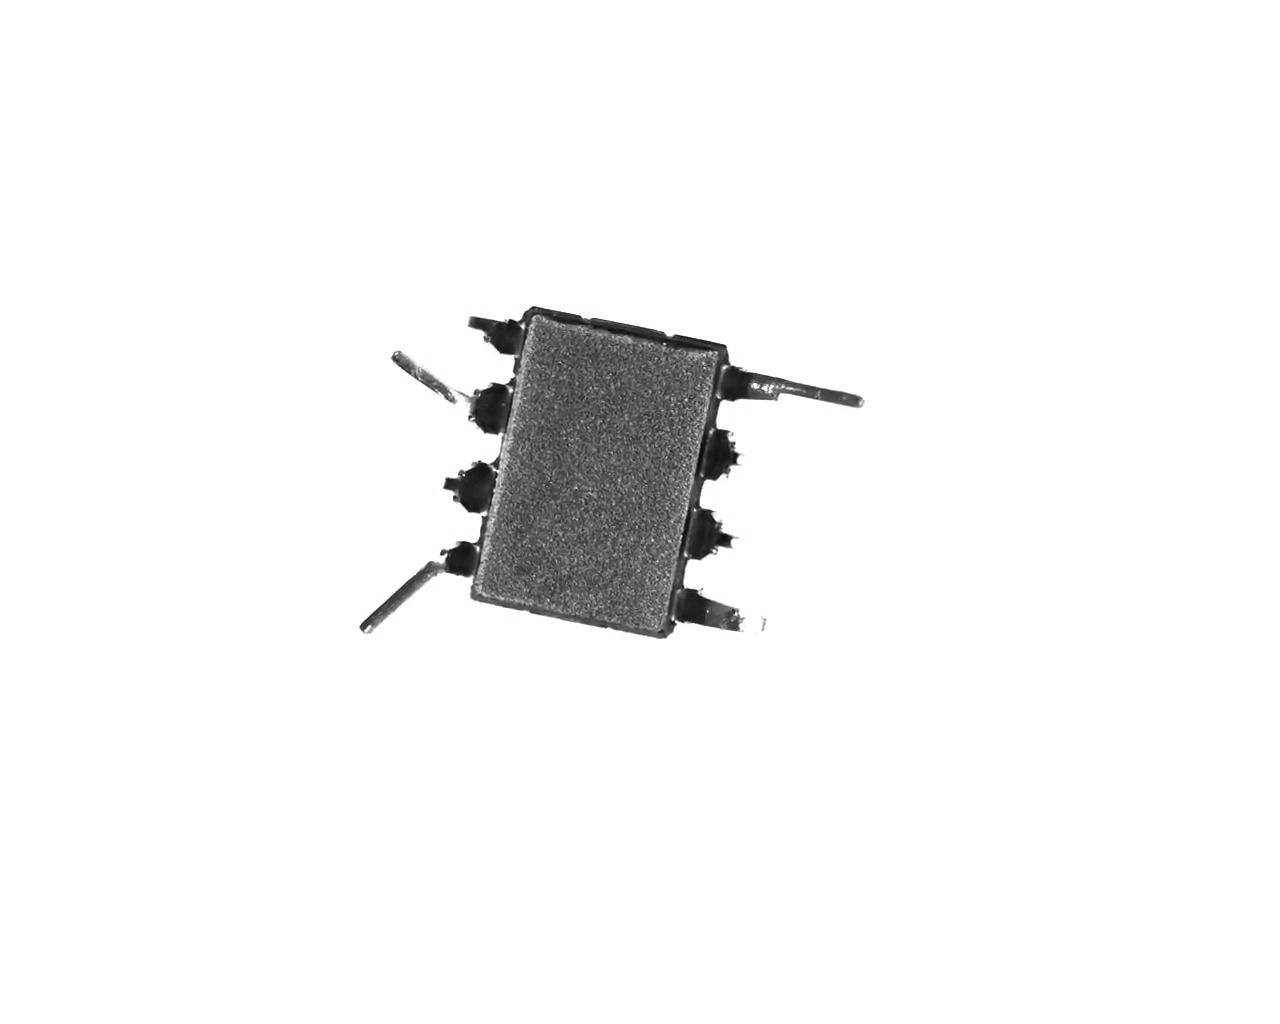Leg: (338, 536, 483, 634), (385, 343, 514, 436), (716, 354, 870, 419), (669, 579, 771, 638)
brokenLeg: (434, 450, 508, 521), (459, 310, 536, 367), (682, 505, 745, 565), (702, 425, 749, 487)
